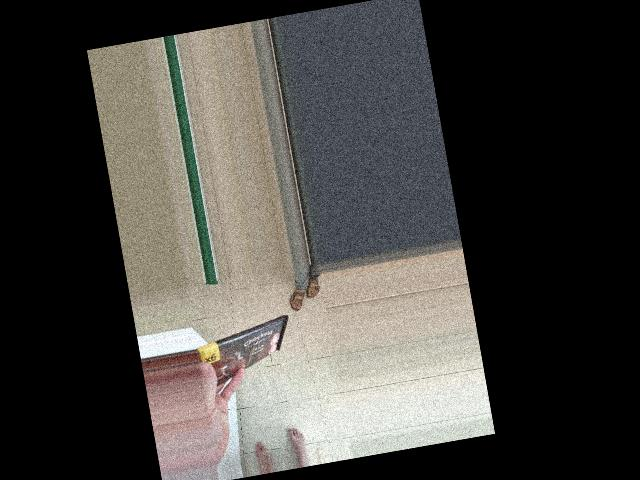chocolate: (229, 302, 325, 414)
